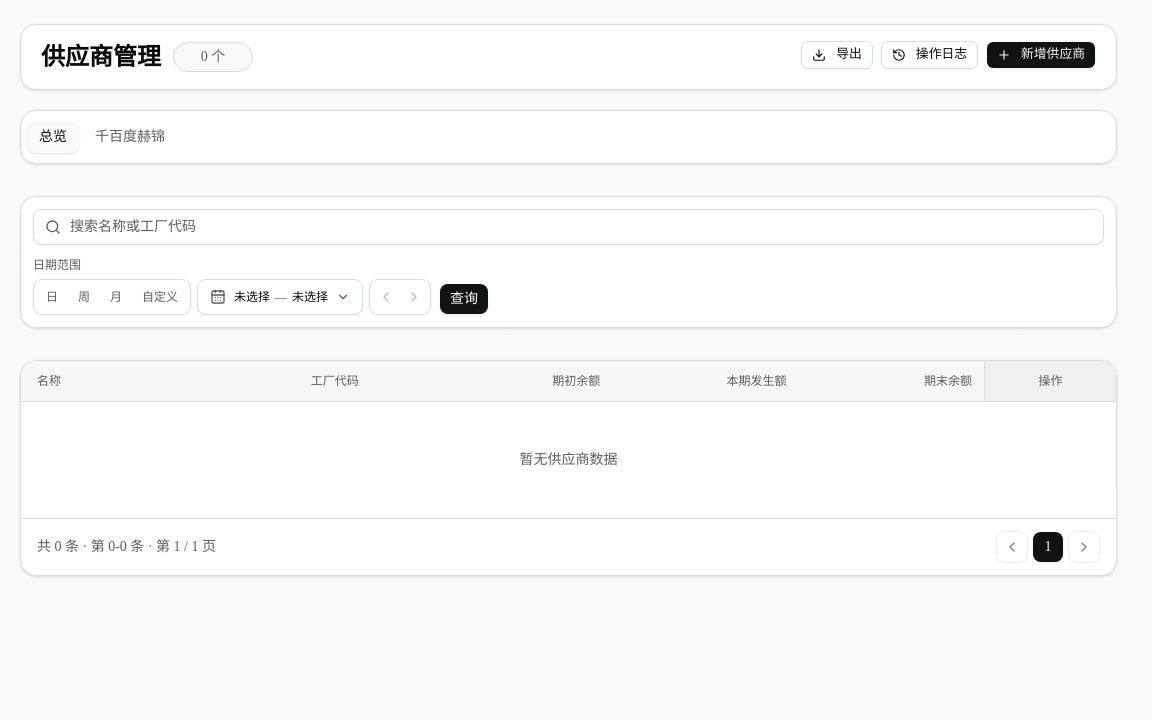
Scenario: supplier management shows a newly created brand tab and uses its code when filtering and creating
Click the tab "千百度赫锦". click: x=130, y=137
box: x1=83 y1=121 x2=177 y2=153
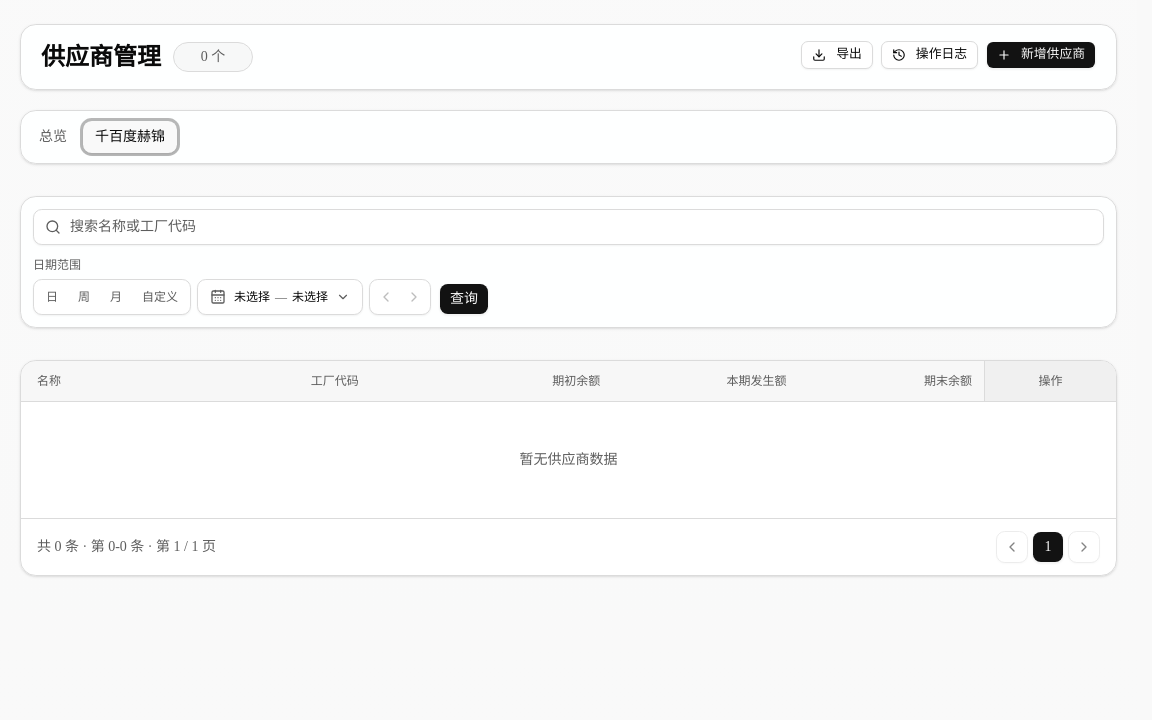
Click the button "新增供应商". click: x=1041, y=55
box: x1=986 y1=41 x2=1096 y2=69
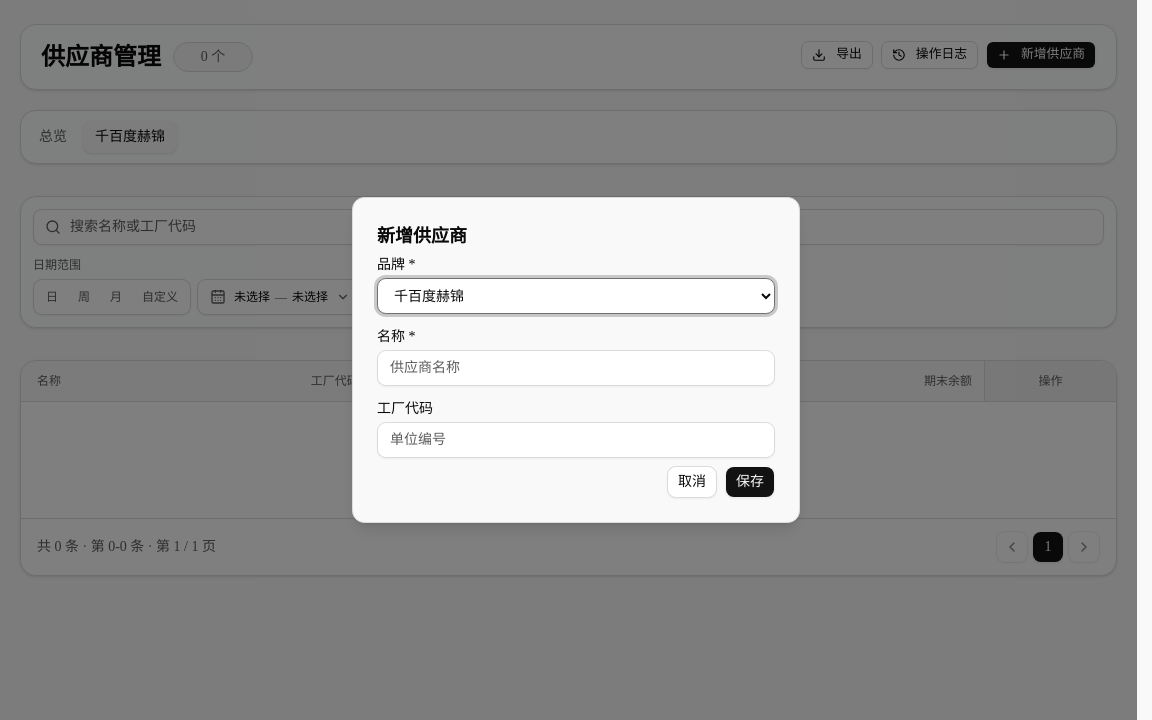
Expected: the dropdown labelled "品牌 *" shows "千百度赫锦", x1=377 y1=278 x2=775 y2=314
